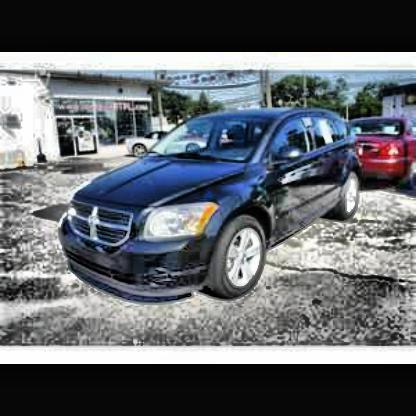Dodge Caliber Wagon 2012: (62, 109, 364, 308)
